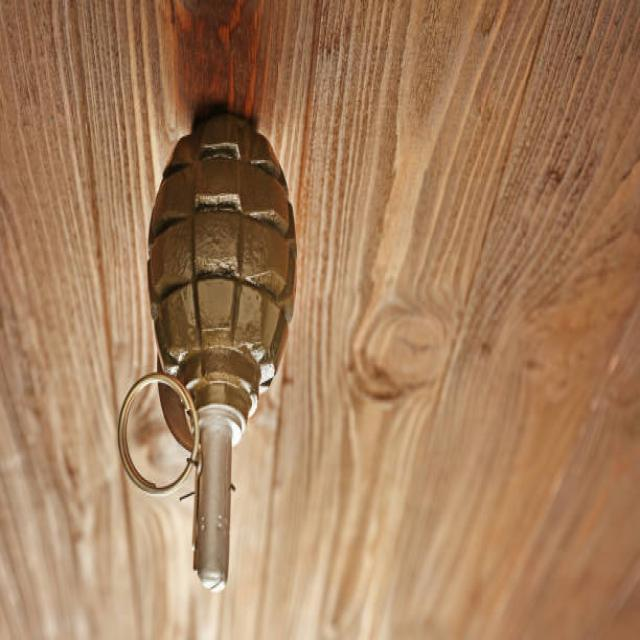grenade: (115, 114, 307, 596)
